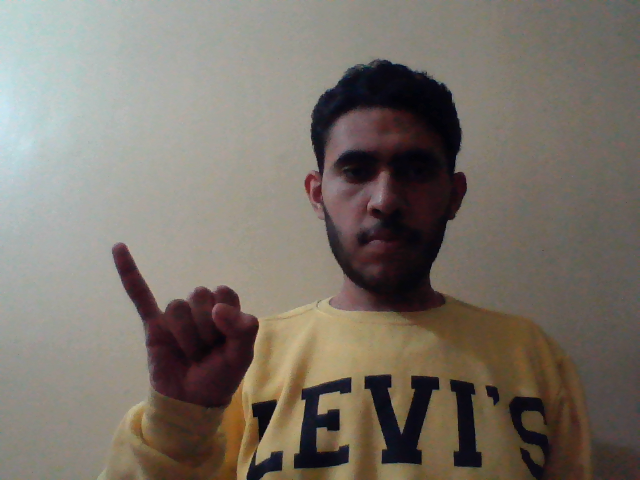I: (106, 230, 265, 426)
